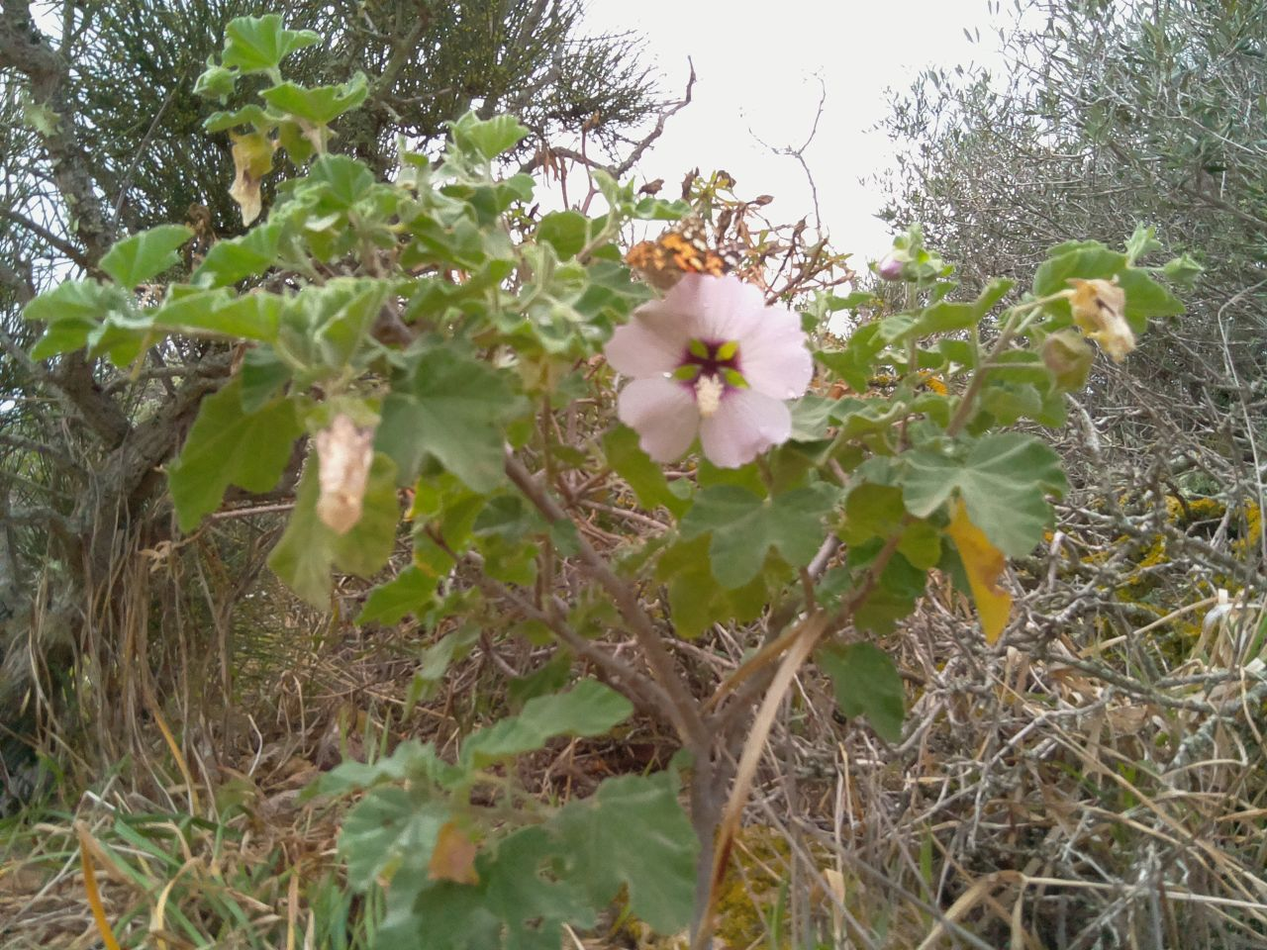Vanessa cardui: (618, 176, 749, 323)
